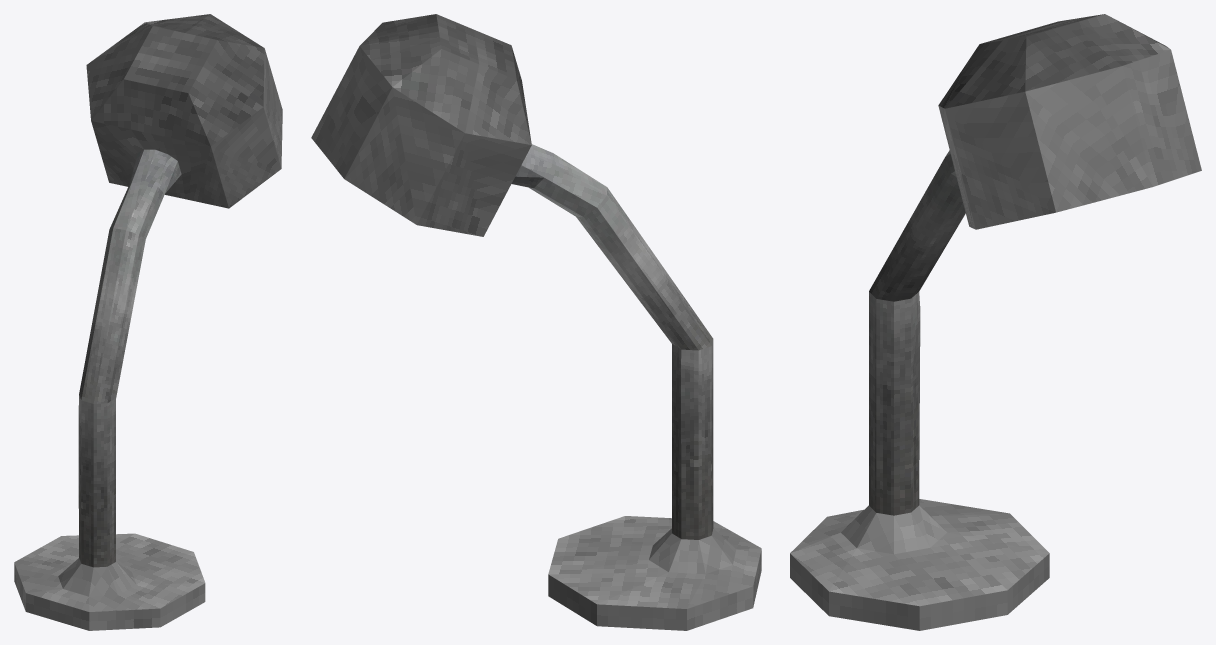
The model's file is lamp.glb.
The picture shows the model from 3 angles, left to right: view 1: azimuth 30°, elevation 25°; view 2: azimuth 150°, elevation 25°; view 3: azimuth 270°, elevation 25°; orthographic projection. The views are drawn at different scales.
Parts seen in each view (by area): view 1: Cube.003; view 2: Cube.003; view 3: Cube.003.
Boxes of the visible parts, x1,y1,x2,y2 form: Cube.003: (14,14,282,630); Cube.003: (311,14,761,630); Cube.003: (790,14,1201,630).
Size of the model in its own units: 0.793 by 1.19 by 0.6993.
1 material, 1 textured.
